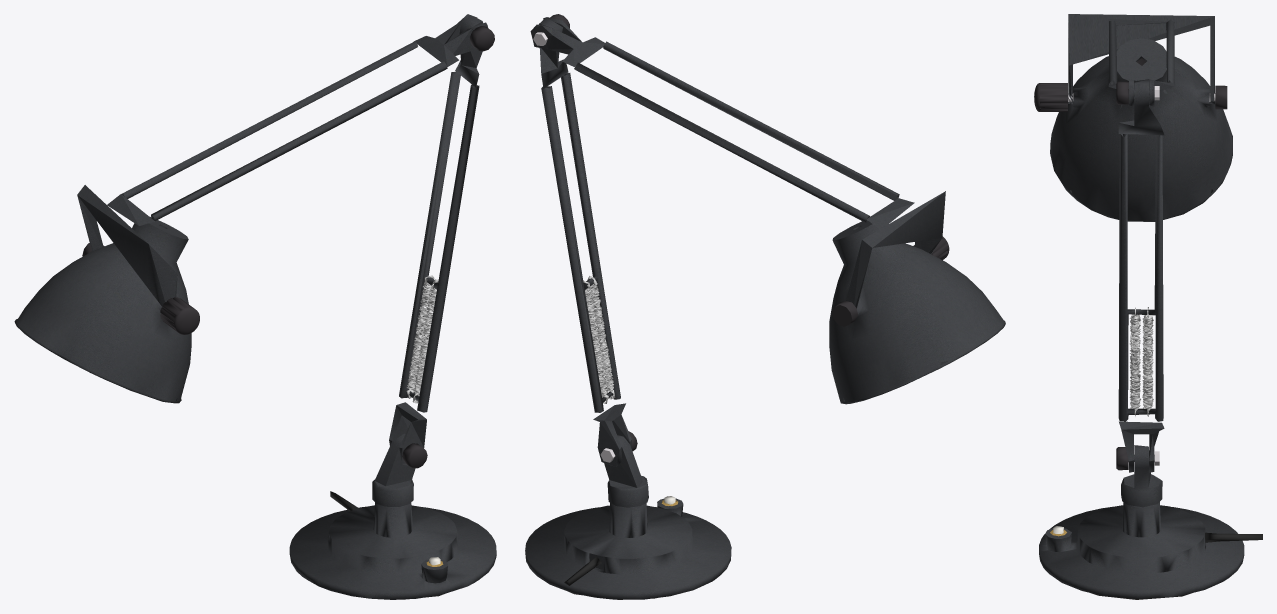
Rendered from desk_lamp.glb.
The picture shows the model from 3 angles, left to right: view 1: azimuth 30°, elevation 25°; view 2: azimuth 150°, elevation 25°; view 3: azimuth 270°, elevation 25°; orthographic projection.
Parts seen in each view (by area): view 1: Casting_mesh, Cord_mesh; view 2: Casting_mesh, Cord_mesh; view 3: Casting_mesh, Cord_mesh.
Boxes of the visible parts, left/top/right/bottom form: Casting_mesh: left=14, top=14, right=496, bottom=599; Cord_mesh: left=82, top=26, right=494, bottom=599; Casting_mesh: left=525, top=17, right=1005, bottom=599; Cord_mesh: left=533, top=14, right=949, bottom=599; Casting_mesh: left=1039, top=14, right=1244, bottom=599; Cord_mesh: left=1034, top=58, right=1262, bottom=599.
Size of the model in its own units: 0.4347 by 0.4727 by 0.1897.
Materials: 4 (4 with a texture image).
